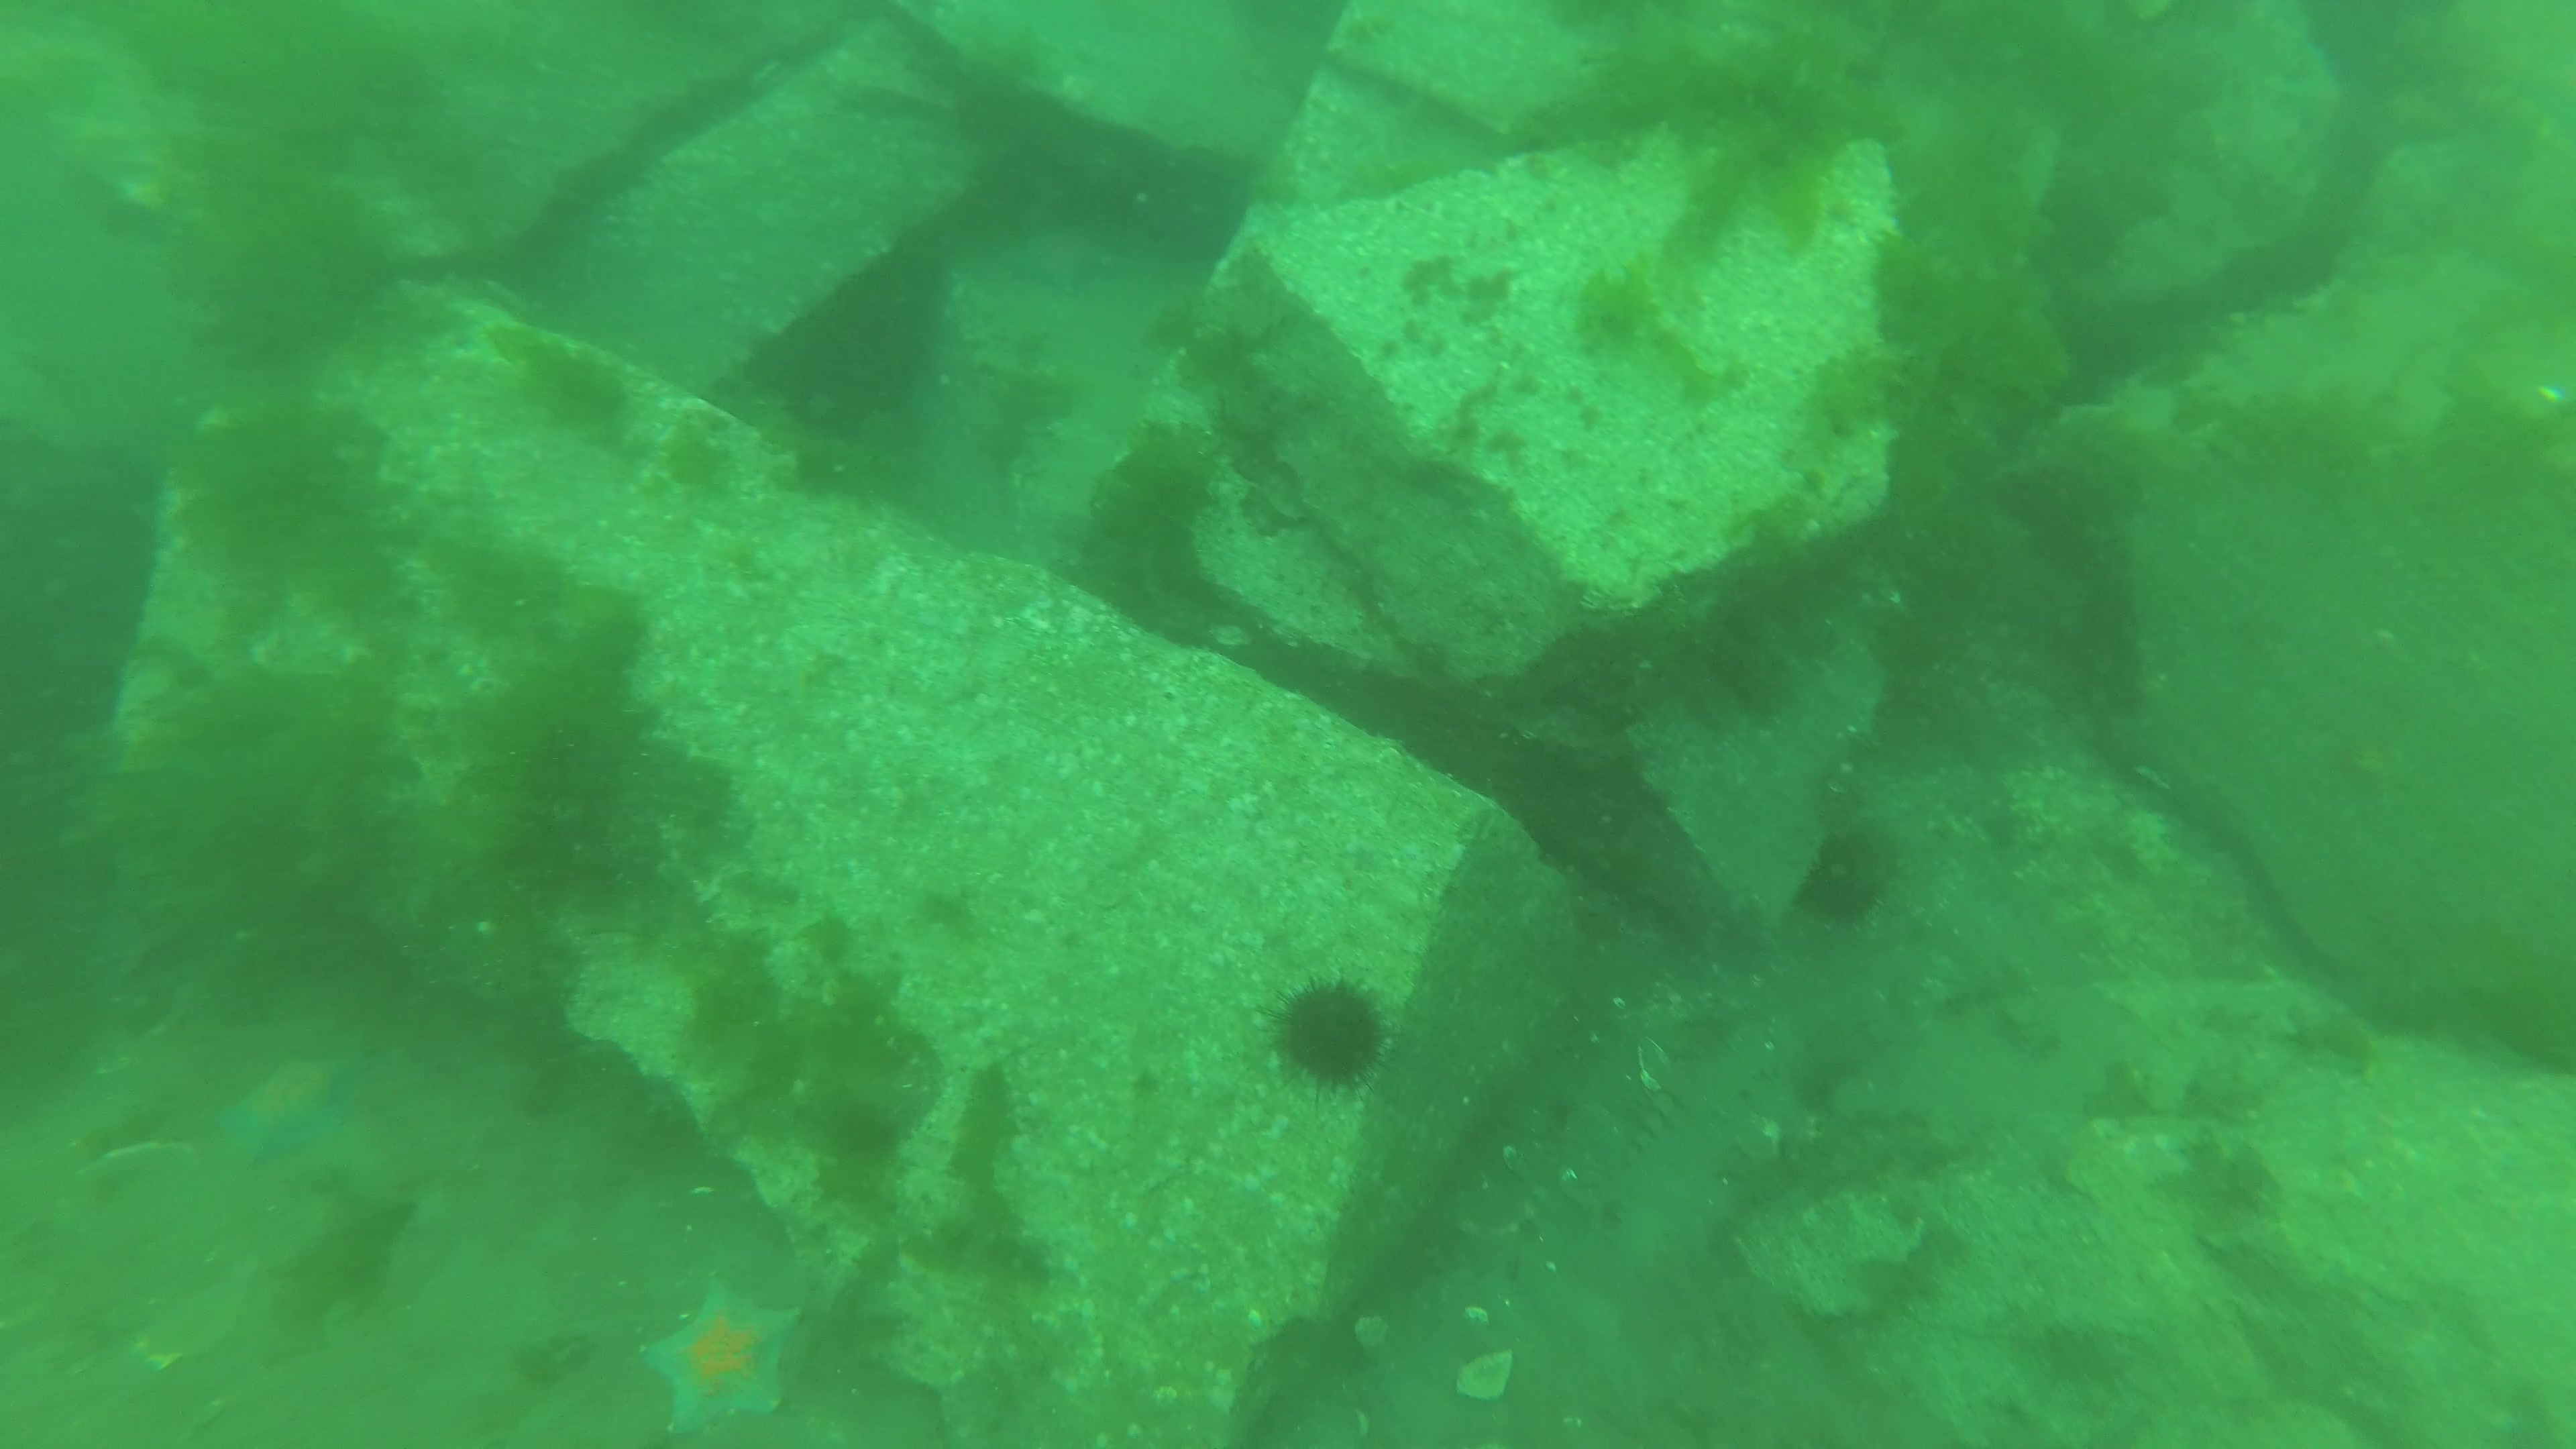echinus: (1260, 975, 1392, 1100), (1794, 824, 1891, 927)
starfish: (633, 1274, 803, 1438), (221, 1056, 359, 1169), (996, 225, 1129, 303)
